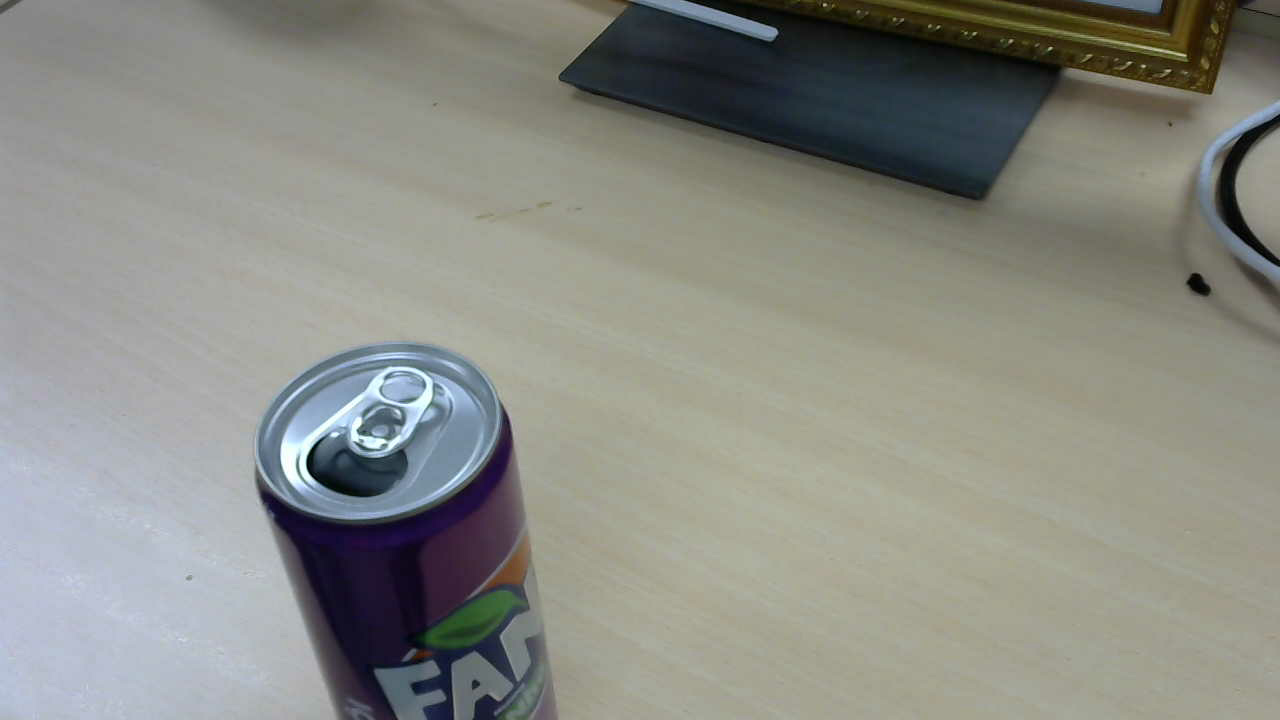Fanta: (257, 346, 563, 698)
